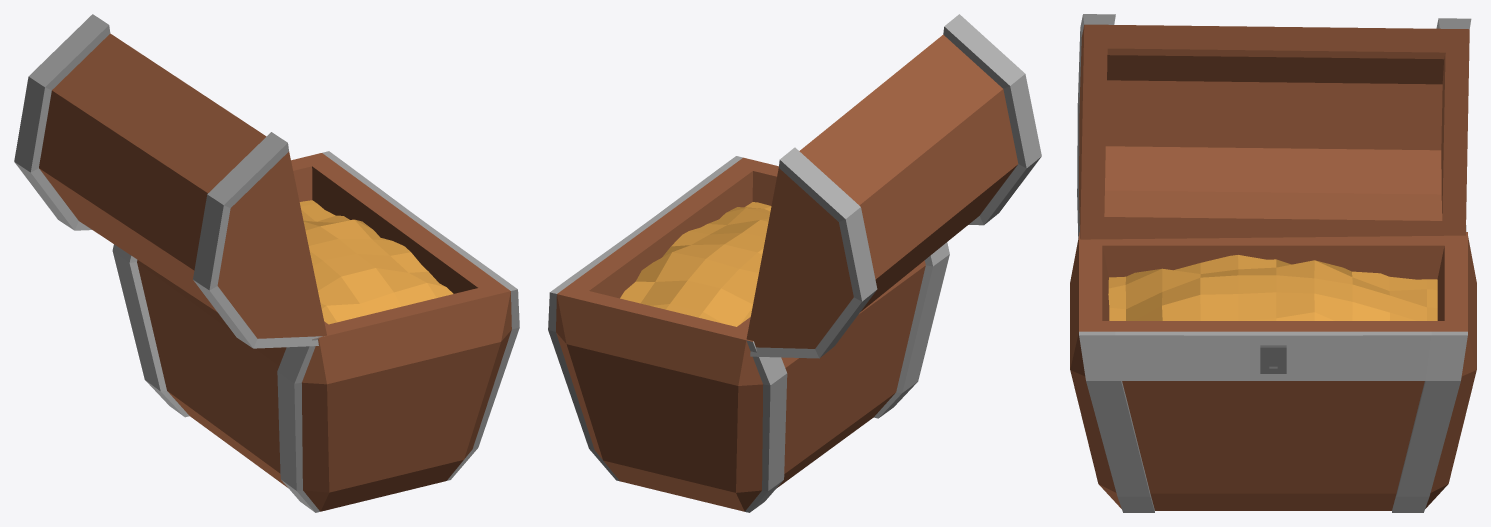
The model's file is Chest_flat.glb.
3 views of the same model, side by side, from view 1: azimuth 30°, elevation 25°; view 2: azimuth 150°, elevation 25°; view 3: azimuth 270°, elevation 25° (orthographic). The views are drawn at different scales.
Visible parts, largest first — view 1: ChestBottom, ChestTop; view 2: ChestBottom, ChestTop; view 3: ChestBottom, ChestTop.
Part boxes in pixels (left/top/right/bottom): ChestBottom: left=112, top=151, right=519, bottom=512; ChestTop: left=14, top=14, right=326, bottom=348; ChestBottom: left=548, top=156, right=949, bottom=512; ChestTop: left=746, top=14, right=1041, bottom=358; ChestBottom: left=1070, top=232, right=1476, bottom=512; ChestTop: left=1077, top=14, right=1471, bottom=239.
Size of the model in its own units: 2.93 by 3.43 by 3.1.
